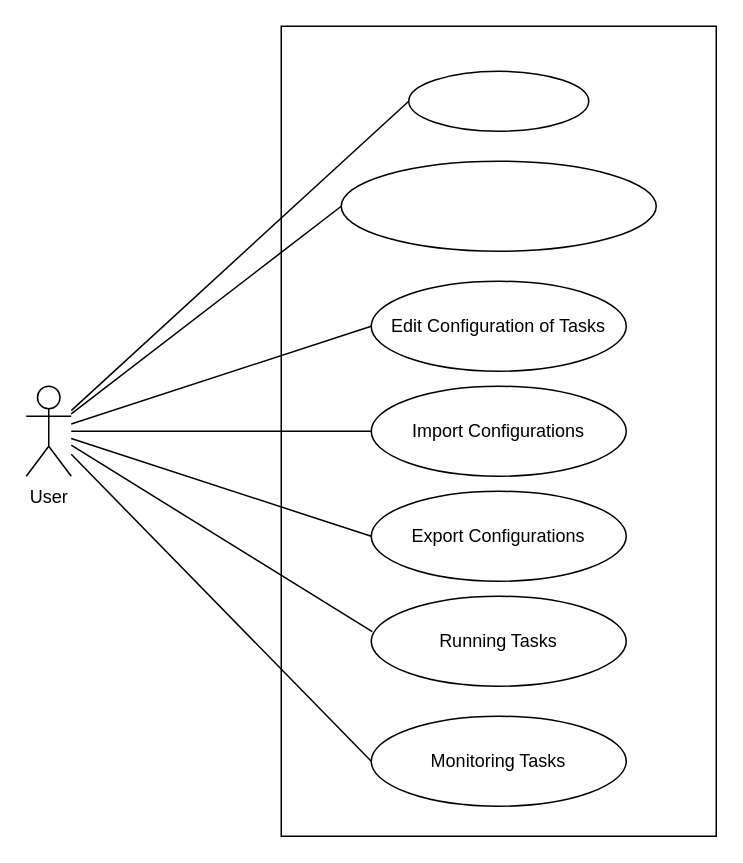
Image size: 743x863. Some labels were removed from this diagram. Here are the shapes that lost their labels. From the top down, the box of each, then its label:
(407, 70, 589, 131): Login
(340, 160, 656, 251): Create New Projects and Tasks
